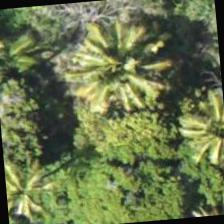Kelapa_Sawit: (73, 17, 171, 115), (2, 141, 68, 223), (175, 83, 223, 179)
